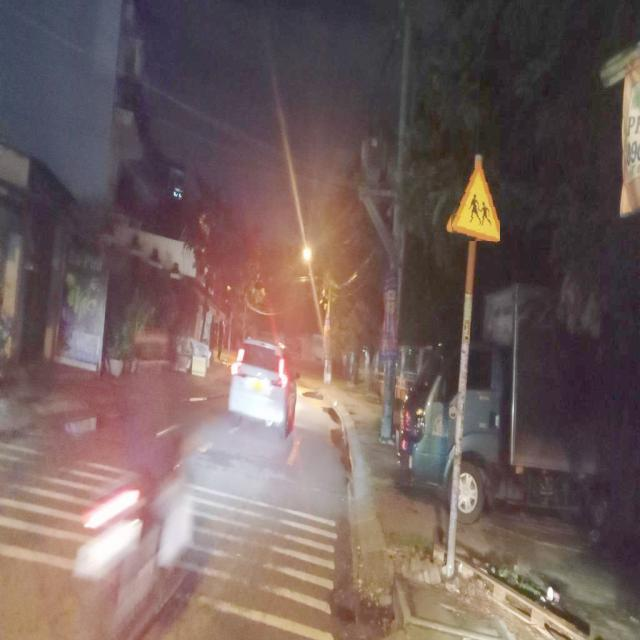225-chu-y-tre-em: (449, 154, 502, 242)
